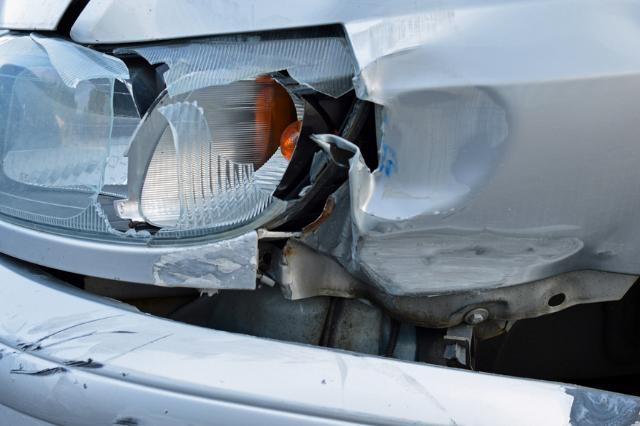Bumper: (0, 252, 336, 426)
Fender: (358, 24, 600, 274)
Light: (0, 33, 340, 247)
